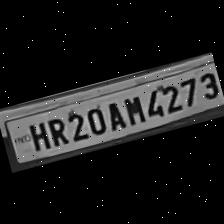0: (80, 100, 110, 136)
2: (61, 105, 89, 143), (156, 78, 184, 114)
3: (193, 67, 221, 102)
4: (139, 83, 166, 119)
7: (174, 74, 200, 108)
A: (101, 96, 128, 132)
H: (22, 116, 50, 153)
M: (117, 90, 146, 126)
R: (42, 111, 70, 147)
